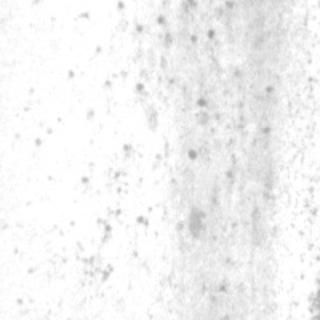pitted_surface: (48, 0, 262, 240)
